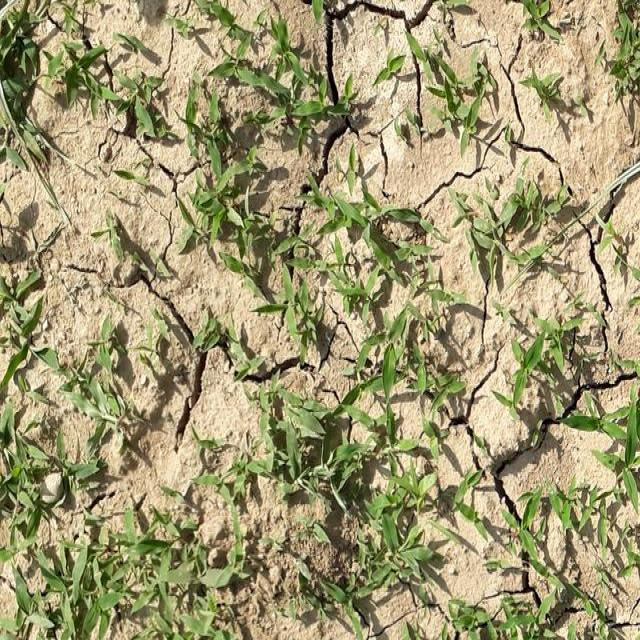weed: (185, 56, 453, 325), (252, 367, 472, 628), (0, 506, 249, 640)
